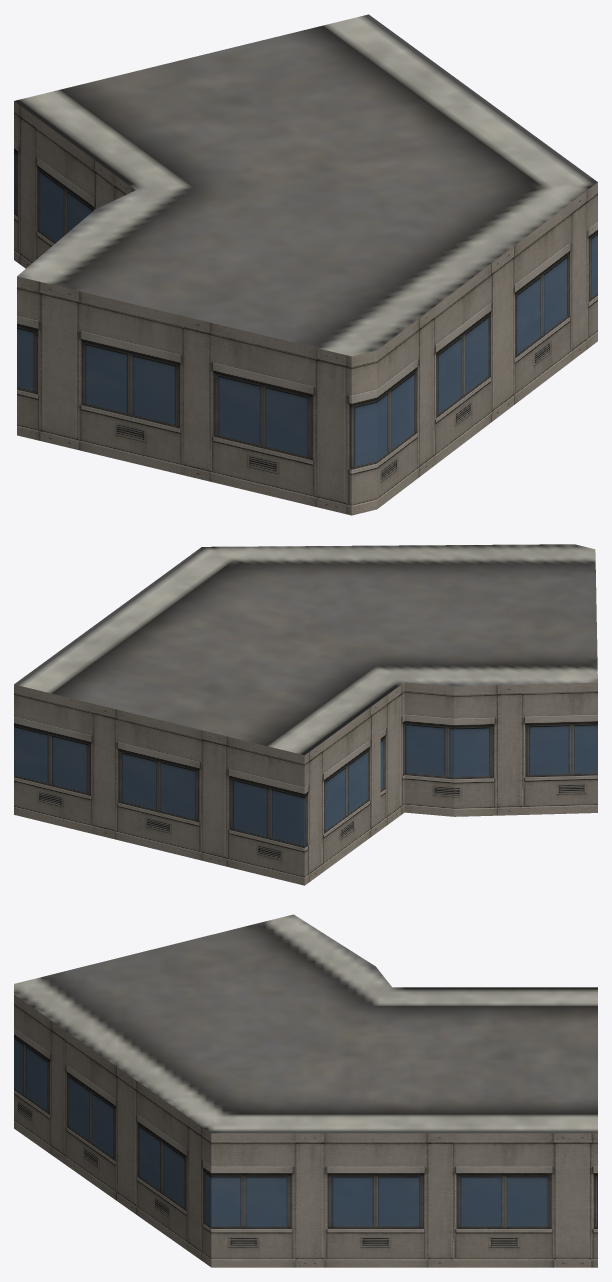
The model's file is building_light_17.glb.
The picture shows the model from 3 angles, top to bottom: view 1: azimuth 30°, elevation 25°; view 2: azimuth 150°, elevation 25°; view 3: azimuth 270°, elevation 25°; orthographic projection. The views are drawn at different scales.
Parts seen in each view (by area): view 1: buildings/saxarba/building_light/building_light_17; view 2: buildings/saxarba/building_light/building_light_17; view 3: buildings/saxarba/building_light/building_light_17.
Boxes of the visible parts, bbox=[...] form: buildings/saxarba/building_light/building_light_17: bbox=[14, 14, 597, 515]; buildings/saxarba/building_light/building_light_17: bbox=[14, 544, 597, 885]; buildings/saxarba/building_light/building_light_17: bbox=[14, 914, 597, 1267].
Bounding box in the file's own units: 63 × 18 × 71.
